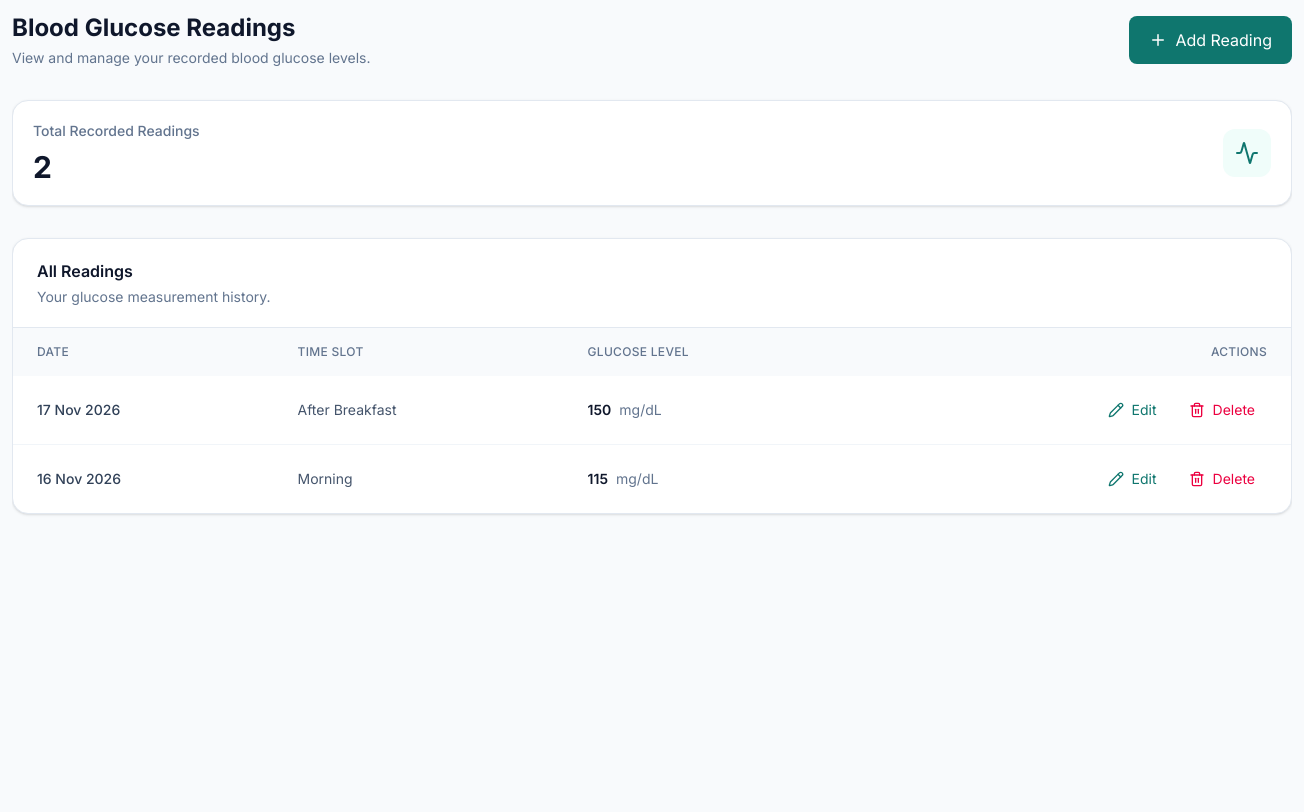
Scenario: ReadingsPage › displays an error when deleting a reading fails
Expected: the text "After Breakfast" is shown, [274, 376, 564, 444]
Click the button with aria-label "delete after breakfast reading" at (1222, 410), box [1177, 392, 1267, 428]
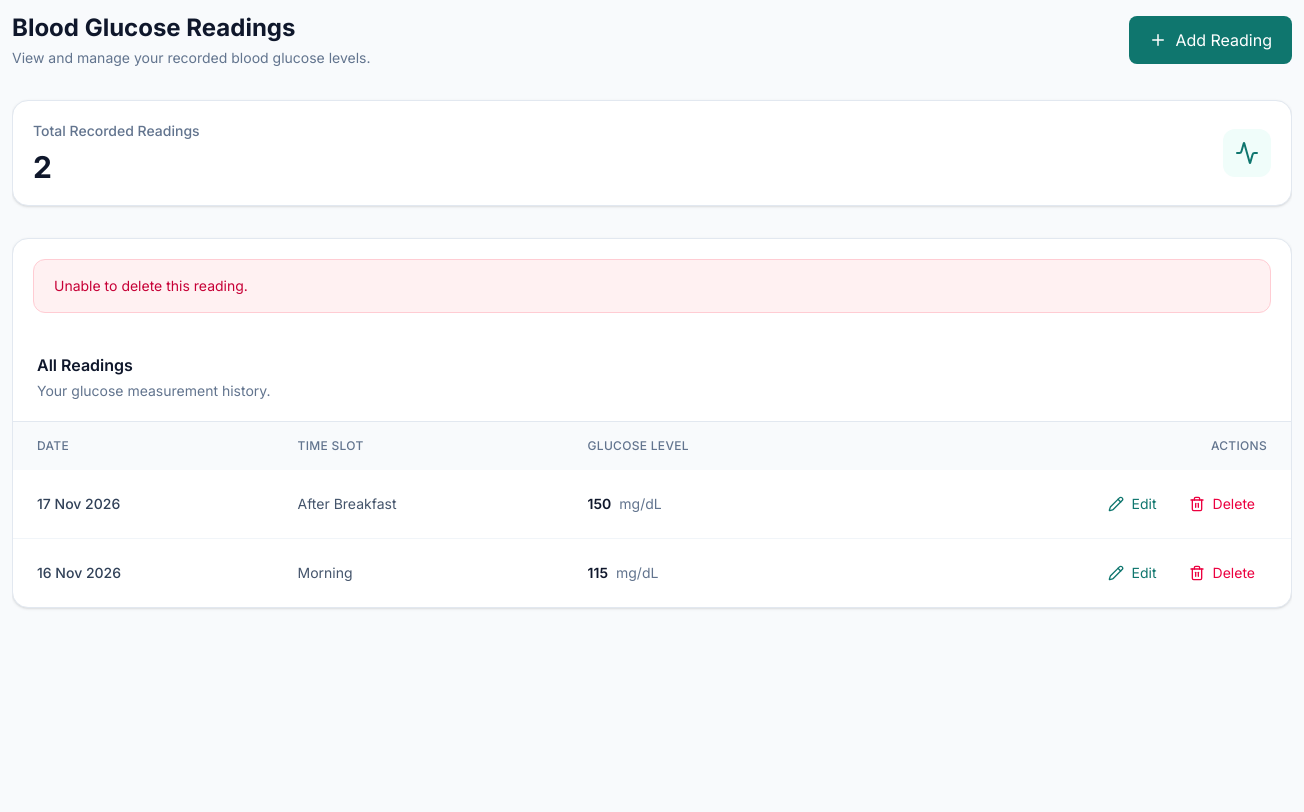
Expected: the text "150" is shown, [588, 495, 611, 512]
Expected: the message reads "Unable to delete this reading.", [54, 277, 248, 294]
